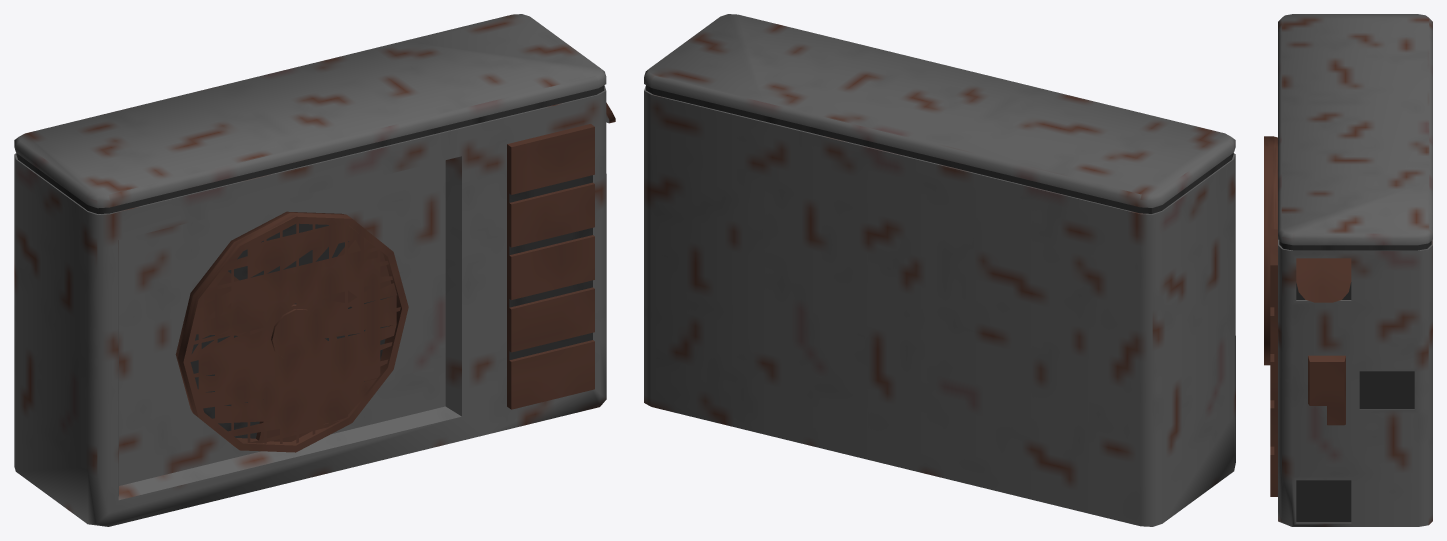
The model's file is Conditioner.fbx.
3 views of the same model, side by side, from view 1: azimuth 30°, elevation 25°; view 2: azimuth 150°, elevation 25°; view 3: azimuth 270°, elevation 25° (orthographic). The views are drawn at different scales.
Visible parts, largest first — view 1: Cube.067; view 2: Cube.067; view 3: Cube.067.
Part boxes in pixels (<box>): Cube.067: <box>14,14,615,526</box>; Cube.067: <box>644,14,1235,526</box>; Cube.067: <box>1264,14,1432,526</box>.
Size of the model in its own units: 247 by 146 by 76.37.
